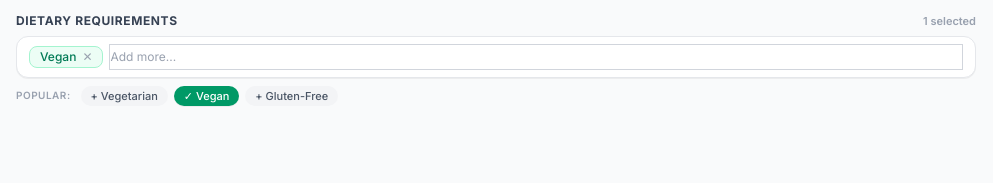
Test case: FilterTypeaheadCombobox › filters options when typing in combobox
Type "glu" into the dropdown at (536, 56), box [110, 44, 963, 70]
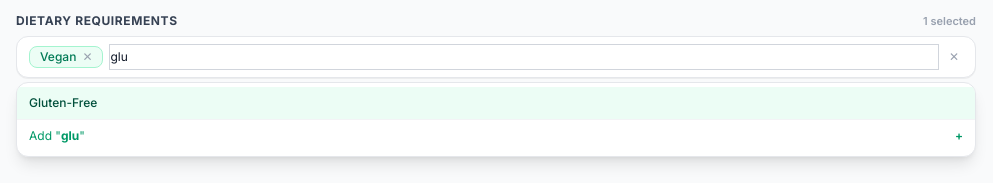
Now the button "Gluten-Free" is shown, box [17, 86, 975, 118]
